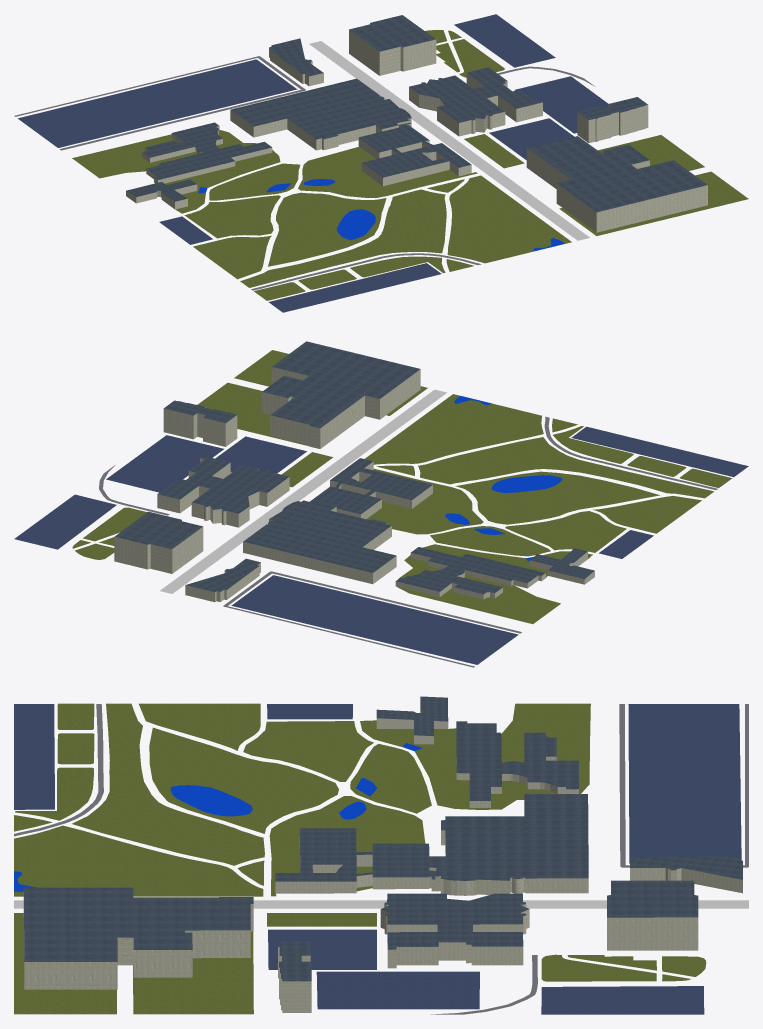
File: LiUSmall.fbx
3 views of the same model, one above another, from view 1: azimuth 30°, elevation 25°; view 2: azimuth 150°, elevation 25°; view 3: azimuth 270°, elevation 25° (orthographic). The views are drawn at different scales.
Visible parts, largest first — view 1: Campushallen, Plane.005, D-huset, element.011, Key-huset, element.008, element.007, I-huset, Temahuset, element.001, Studenthuset, element.002 (+22 smaller); view 2: Campushallen, Plane.005, D-huset, element.011, Key-huset, element.008, element.007, Temahuset, Studenthuset, element.001, I-huset, road (+22 smaller); view 3: Campushallen, Plane.005, D-huset, element.011, element.008, Key-huset, element.007, element.001, I-huset, Temahuset, Studenthuset, Plane.008 (+25 smaller).
Boxes of the visible parts, x1,y1,x2,y2 form: Campushallen: [526, 136, 707, 232]; Plane.005: [18, 59, 297, 147]; D-huset: [230, 78, 411, 150]; element.011: [447, 175, 571, 263]; Key-huset: [409, 67, 542, 136]; element.008: [240, 189, 446, 287]; element.007: [268, 192, 386, 266]; I-huset: [358, 123, 471, 186]; Temahuset: [142, 122, 272, 183]; element.001: [72, 130, 280, 213]; Studenthuset: [349, 15, 436, 75]; element.002: [298, 146, 477, 197]; Campushallen: [262, 341, 420, 448]; Plane.005: [231, 575, 518, 664]; D-huset: [243, 500, 396, 584]; element.011: [365, 394, 543, 464]; Key-huset: [157, 456, 289, 527]; element.008: [418, 437, 713, 498]; element.007: [455, 471, 659, 524]; Temahuset: [395, 547, 545, 599]; Studenthuset: [114, 511, 203, 573]; element.001: [397, 544, 592, 623]; I-huset: [309, 458, 432, 519]; road: [160, 389, 446, 593]; Campushallen: [23, 887, 253, 989]; Plane.005: [628, 704, 741, 863]; D-huset: [429, 794, 588, 895]; element.011: [14, 825, 263, 896]; element.008: [72, 703, 264, 865]; Key-huset: [380, 893, 529, 968]; element.007: [149, 727, 338, 833]; element.001: [360, 703, 590, 809]; I-huset: [275, 828, 435, 893]; Temahuset: [456, 721, 578, 807]; Studenthuset: [607, 880, 698, 950]; Plane.008: [316, 971, 479, 1009].
Size of the model in its own units: 40000 by 1989 by 40000.
